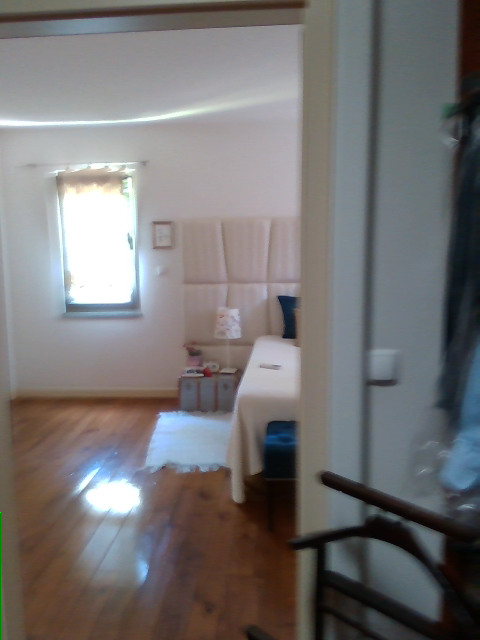open: (0, 0, 343, 639)
